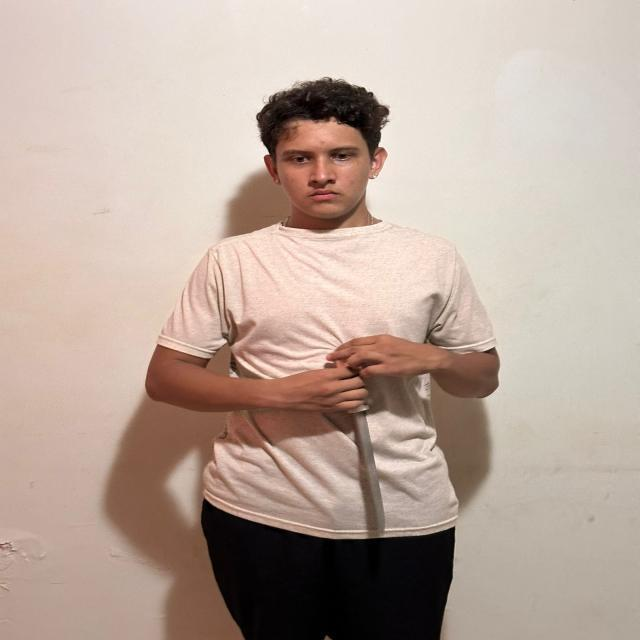knife: (353, 406, 383, 532)
